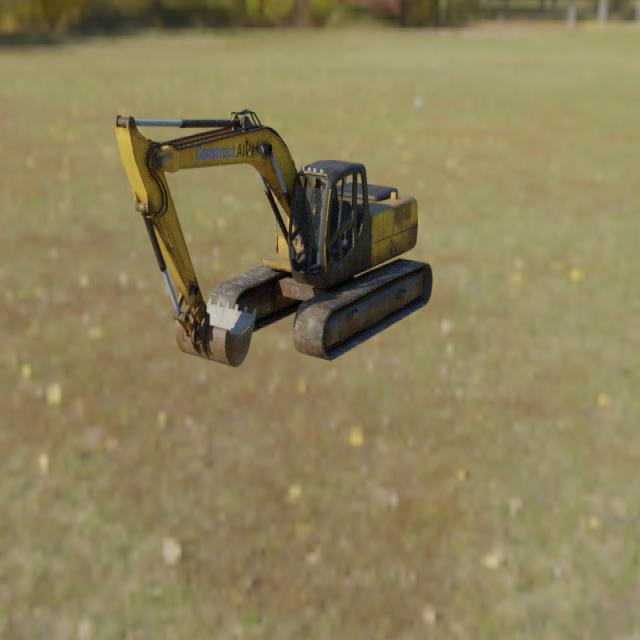excavator: (114, 108, 433, 368)
